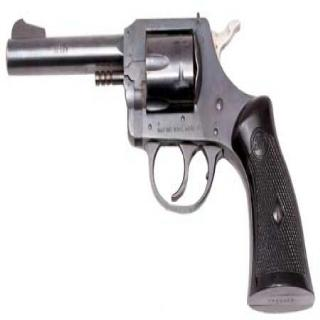gun: (3, 1, 314, 316)
